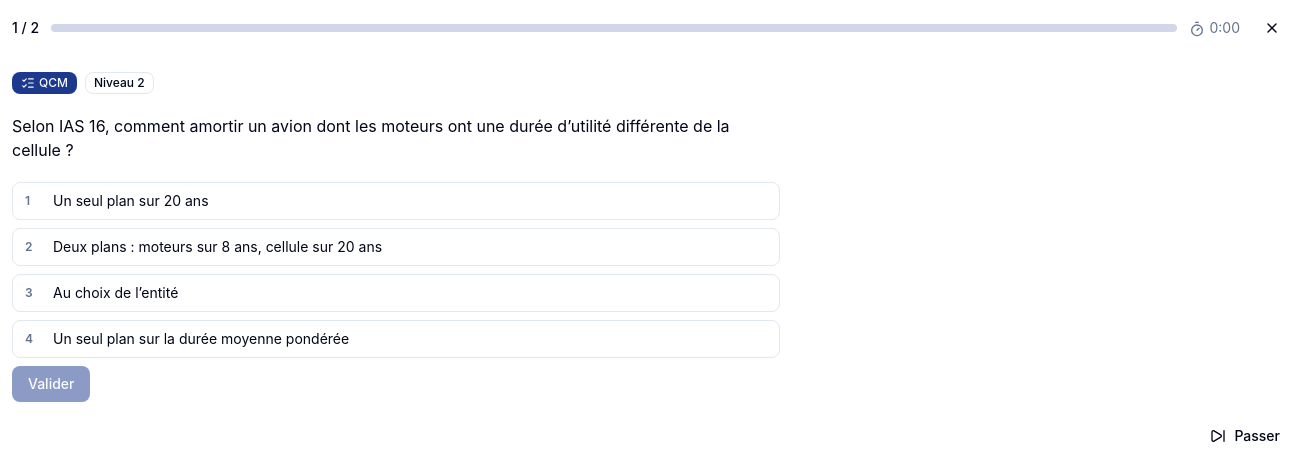
Test case: SessionPage › passer un exercice et confirmer l’arrêt
Expected: the element named "Durée de la session" is shown, [1190,18,1240,38]
Click the button "Passer" at (1245, 436), box [1198,418,1292,454]
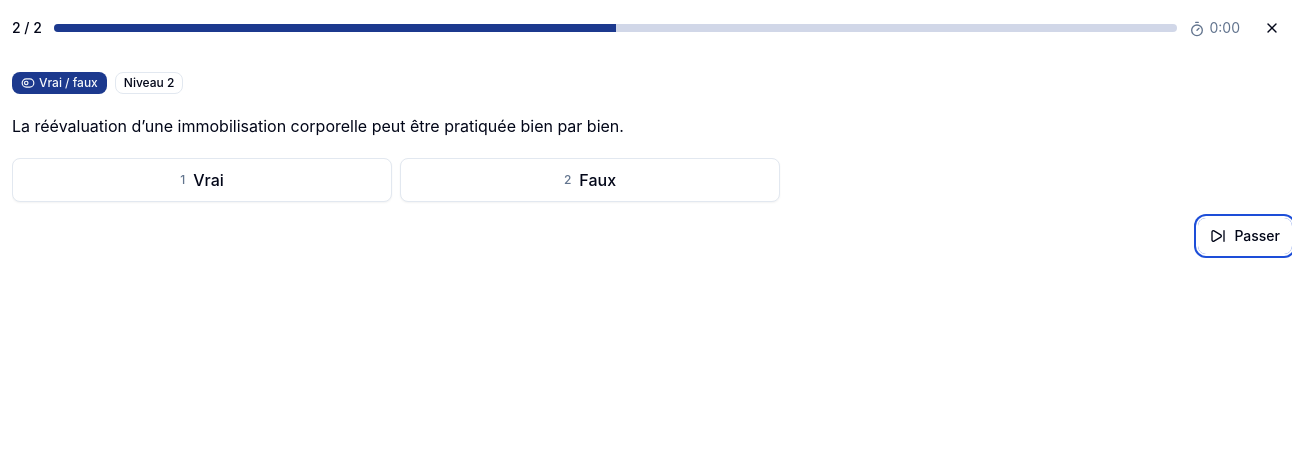
Result: the text "2 / 2" is shown at [12,18,42,38]
Click the button named "Terminer la session" at (1272, 28), box [1252,8,1292,48]
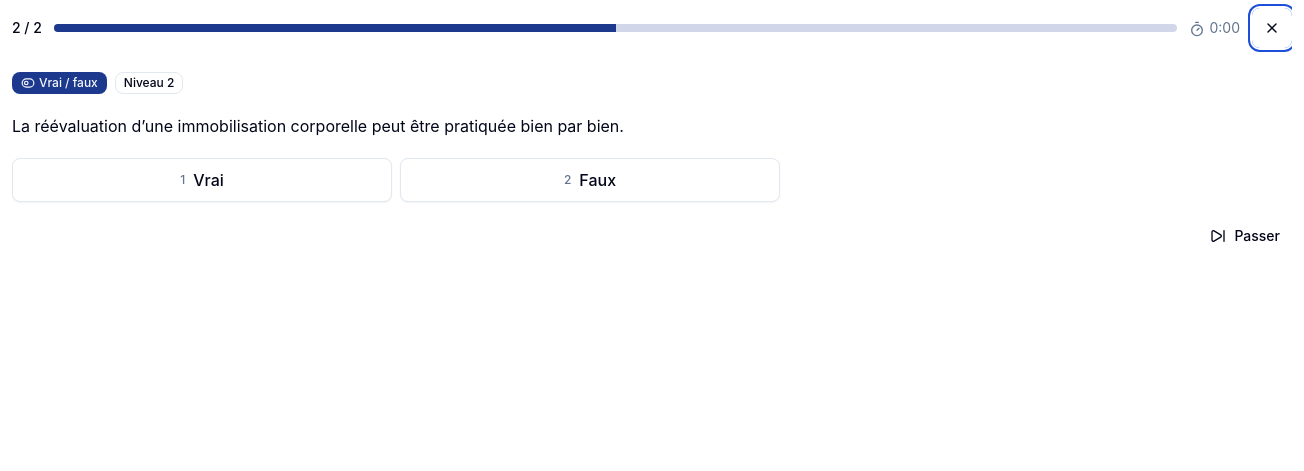
Expected: the heading "Bilan de la session" is not shown
Click the button named "Terminer la session" at (1272, 28), box [1252,8,1292,48]
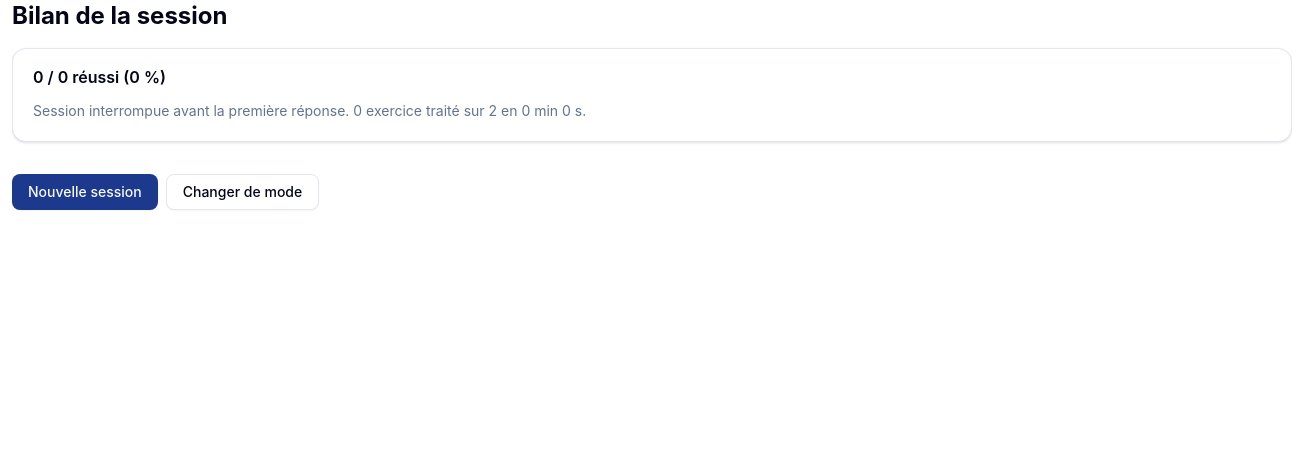
Result: the heading "Bilan de la session" is shown at [12,1,228,30]
Result: the text "0 exercice traité sur 2" is shown at [33,102,586,119]
